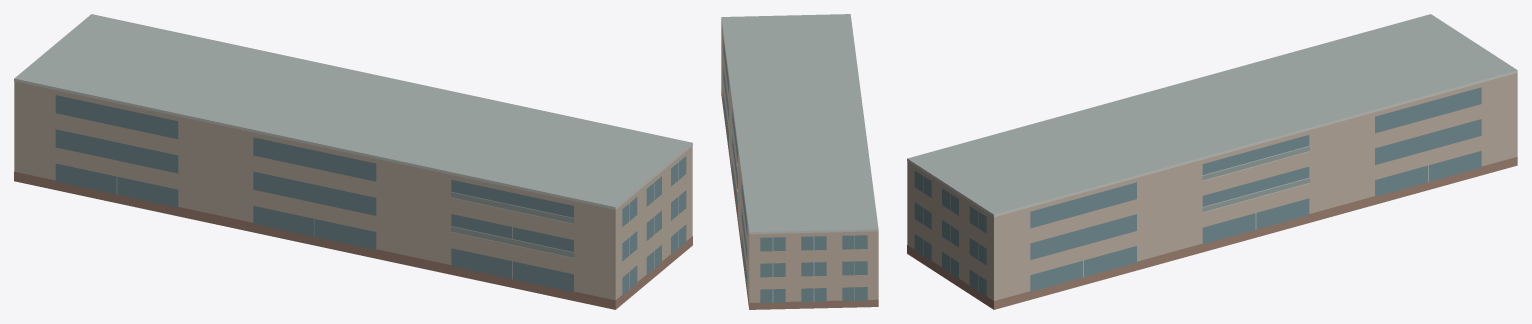
File: residential-1348e482-1648-4968-a9f3-749f5ff4c59a.glb
3 views of the same model, side by side, from view 1: azimuth 30°, elevation 25°; view 2: azimuth 150°, elevation 25°; view 3: azimuth 270°, elevation 25° (orthographic). The views are drawn at different scales.
Visible parts, largest first — view 1: residential-1348e482-1648-4968-a9f3-749f5ff4c59a.tmp; view 2: residential-1348e482-1648-4968-a9f3-749f5ff4c59a.tmp; view 3: residential-1348e482-1648-4968-a9f3-749f5ff4c59a.tmp.
Part boxes in pixels (box(x1,y1,x2,y2)): residential-1348e482-1648-4968-a9f3-749f5ff4c59a.tmp: box(14, 14, 692, 309); residential-1348e482-1648-4968-a9f3-749f5ff4c59a.tmp: box(721, 14, 878, 309); residential-1348e482-1648-4968-a9f3-749f5ff4c59a.tmp: box(907, 14, 1517, 309).
Bounding box in the file's own units: 41.34 × 9.15 × 53.15.
